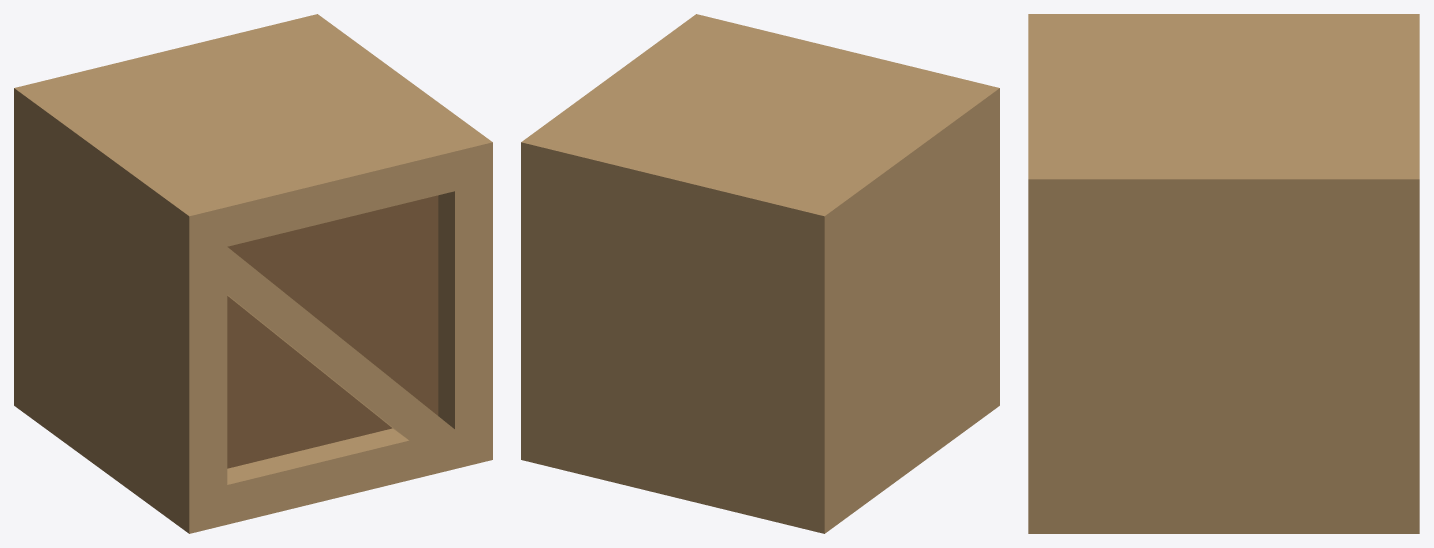
The model's file is Sewer_CrateBox.fbx.
3 views of the same model, side by side, from view 1: azimuth 30°, elevation 25°; view 2: azimuth 150°, elevation 25°; view 3: azimuth 270°, elevation 25° (orthographic). The views are drawn at different scales.
Visible parts, largest first — view 1: Crate_Box; view 2: Crate_Box; view 3: Crate_Box.
Boxes of the visible parts, box(x1,y1,x2,y2) form: Crate_Box: box(14, 14, 492, 533); Crate_Box: box(521, 14, 999, 533); Crate_Box: box(1028, 14, 1419, 533).
Size of the model in its own units: 26.37 by 26.37 by 26.37.
